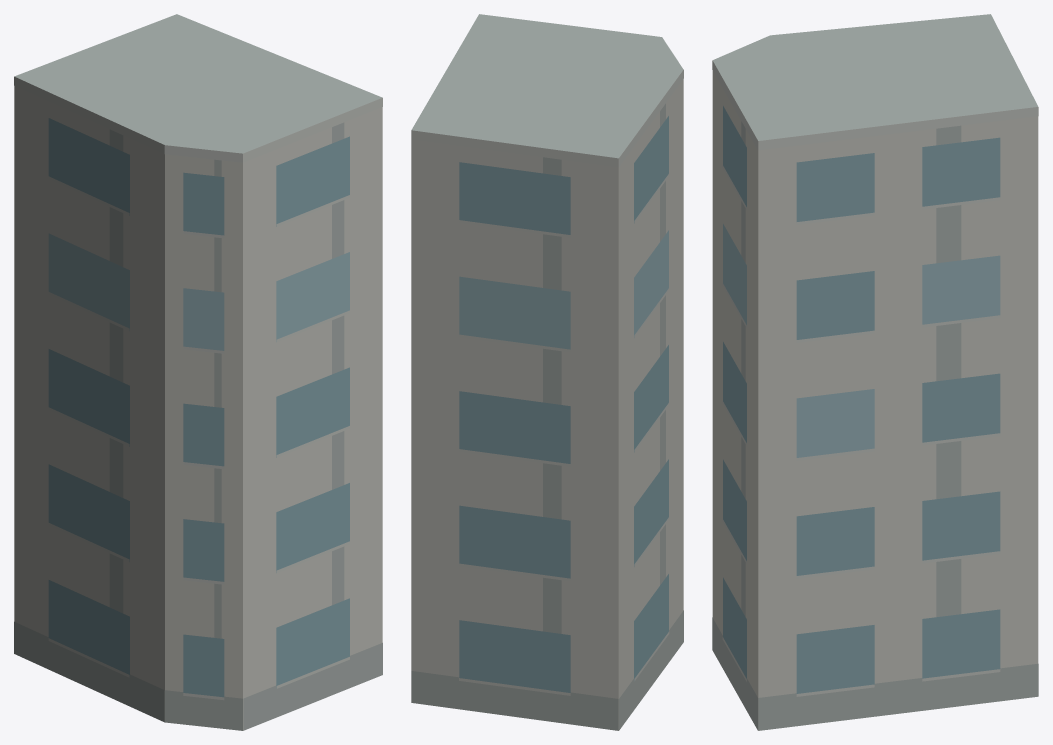
File: survey-upis-32736898.glb
3 views of the same model, side by side, from view 1: azimuth 30°, elevation 25°; view 2: azimuth 150°, elevation 25°; view 3: azimuth 270°, elevation 25° (orthographic). The views are drawn at different scales.
Visible parts, largest first — view 1: survey-upis-32736898.tmp; view 2: survey-upis-32736898.tmp; view 3: survey-upis-32736898.tmp.
Boxes of the visible parts, x1,y1,x2,y2 form: survey-upis-32736898.tmp: [14, 14, 382, 730]; survey-upis-32736898.tmp: [411, 14, 683, 730]; survey-upis-32736898.tmp: [712, 14, 1038, 730].
Bounding box in the file's own units: 7.05 × 15.25 × 7.65.
